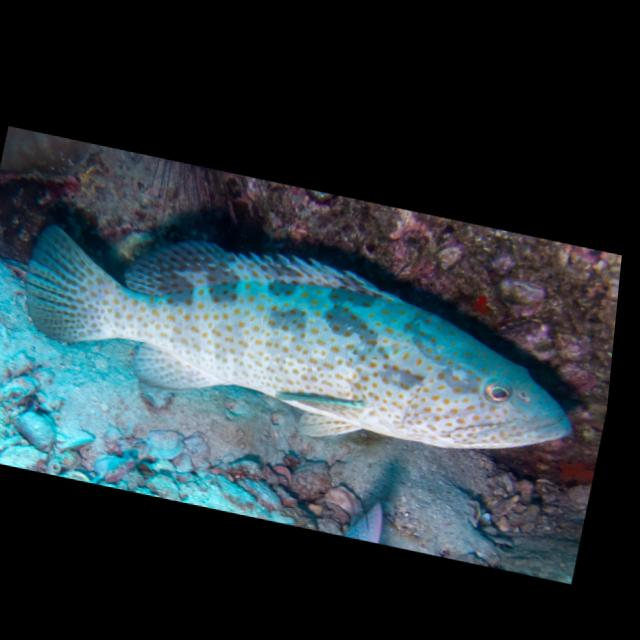Groupers: (0, 198, 599, 489)
